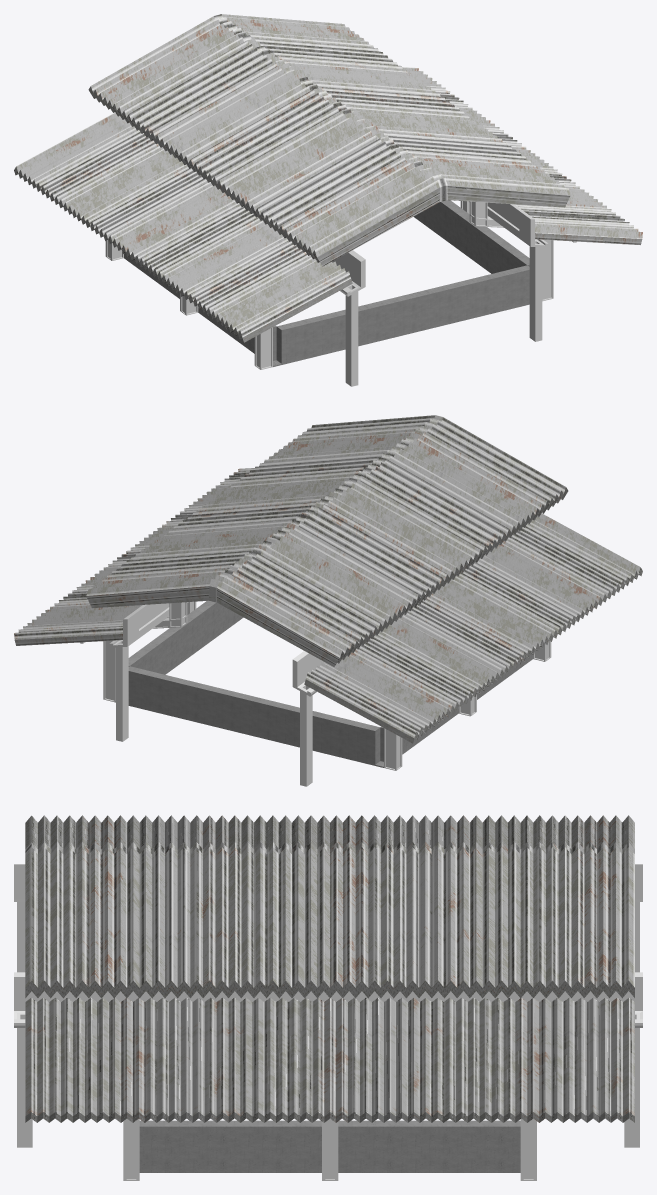
File: HangarPetrotec.fbx
3 renders of one model, top to bottom at view 1: azimuth 30°, elevation 25°; view 2: azimuth 150°, elevation 25°; view 3: azimuth 270°, elevation 25°, orthographic. The views are drawn at different scales.
Parts seen in each view (by area): view 1: CenterRoof, LeftRoof, Base, RightRoof, RightGutter, LeftGutter, BackPillar; view 2: CenterRoof, LeftRoof, Base, RightRoof, RightGutter, FrontPillar, LeftGutter; view 3: CenterRoof, RightRoof, Base, RightGutter, LeftGutter, BackPillar, FrontPillar, CenterPillar.
Boxes of the visible parts, x1=… form: CenterRoof: x1=88, y1=14, x2=570, y2=266; LeftRoof: x1=14, y1=112, x2=352, y2=342; Base: x1=124, y1=200, x2=529, y2=366; RightRoof: x1=402, y1=67, x2=642, y2=245; RightGutter: x1=469, y1=201, x2=548, y2=341; LeftGutter: x1=332, y1=250, x2=365, y2=386; BackPillar: x1=254, y1=201, x2=553, y2=369; CenterRoof: x1=86, y1=415, x2=568, y2=666; LeftRoof: x1=304, y1=513, x2=642, y2=743; Base: x1=115, y1=600, x2=532, y2=767; RightRoof: x1=14, y1=468, x2=254, y2=645; RightGutter: x1=109, y1=602, x2=188, y2=741; FrontPillar: x1=103, y1=602, x2=402, y2=770; LeftGutter: x1=292, y1=651, x2=324, y2=786; CenterRoof: x1=25, y1=815, x2=634, y2=998; RightRoof: x1=25, y1=997, x2=634, y2=1122; Base: x1=139, y1=1120, x2=520, y2=1172; RightGutter: x1=14, y1=972, x2=642, y2=1147; LeftGutter: x1=14, y1=864, x2=642, y2=972; BackPillar: x1=123, y1=1118, x2=139, y2=1180; FrontPillar: x1=520, y1=1118, x2=536, y2=1180; CenterPillar: x1=322, y1=1118, x2=338, y2=1180.
Bounding box in the file's own units: 37482 × 16080 × 38000.
Materials: 5 (2 with a texture image).
